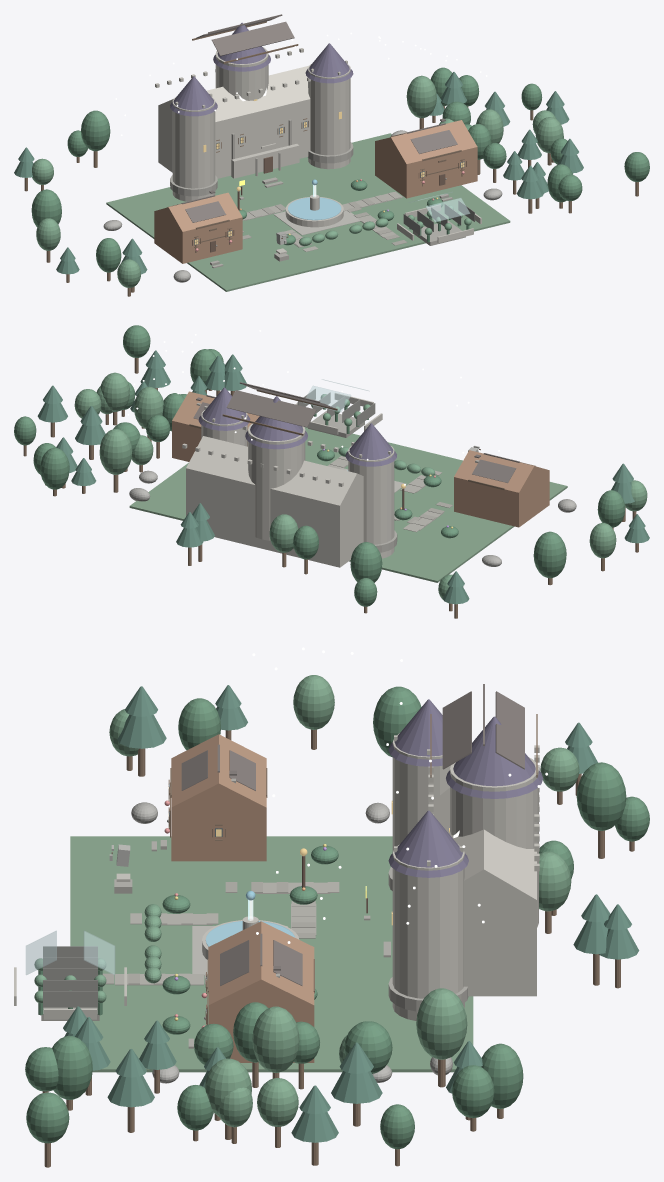
Rendered from raven-castle.glb.
3 views of the same model, one above another, from view 1: azimuth 30°, elevation 25°; view 2: azimuth 150°, elevation 25°; view 3: azimuth 270°, elevation 25° (orthographic). The views are drawn at different scales.
Visible parts, largest first — view 1: 大地草地, 古堡_主堡, 森鸦旅店_墙体, 星尘商店_墙体, 古堡_侧塔0, 古堡_侧塔1, 古堡_中央主塔, 古堡_主堡屋顶_前坡, 古堡_前城墙, 古堡_侧塔尖顶1, 古堡_侧塔尖顶0, 树冠.015 (+26 smaller); view 2: 古堡_主堡, 大地草地, 星尘商店_墙体, 古堡_中央主塔, 古堡_侧塔0, 森鸦旅店_墙体, 古堡_主堡屋顶_后坡, 古堡_侧塔尖顶0, 古堡_主塔尖顶, 树冠.023, 树冠.015, 古堡_侧塔尖顶1 (+24 smaller); view 3: 大地草地, 古堡_主堡, 星尘商店_墙体, 古堡_侧塔1, 森鸦旅店_墙体, 古堡_中央主塔, 古堡_主塔尖顶, 古堡_侧塔0, 古堡_侧塔尖顶1, 树冠.015, 树冠.021, 树冠.012 (+37 smaller).
Part boxes in pixels (box(x1,y1,x2,y2)): 大地草地: box(106, 133, 510, 291); 古堡_主堡: box(158, 65, 310, 178); 森鸦旅店_墙体: box(375, 120, 477, 198); 星尘商店_墙体: box(154, 192, 242, 263); 古堡_侧塔0: box(172, 97, 215, 201); 古堡_侧塔1: box(308, 64, 350, 169); 古堡_中央主塔: box(215, 47, 268, 100); 古堡_主堡屋顶_前坡: box(211, 21, 294, 56); 古堡_前城墙: box(231, 144, 299, 178); 古堡_侧塔尖顶1: box(305, 43, 353, 83); 古堡_侧塔尖顶0: box(170, 76, 217, 116); 树冠.015: box(406, 75, 436, 118); 古堡_主堡: box(186, 436, 363, 567); 大地草地: box(129, 427, 567, 582); 星尘商店_墙体: box(454, 450, 549, 527); 古堡_中央主塔: box(248, 423, 305, 540); 古堡_侧塔0: box(348, 445, 394, 558); 森鸦旅店_墙体: box(172, 391, 259, 461); 古堡_主堡屋顶_后坡: box(226, 390, 316, 427); 古堡_侧塔尖顶0: box(345, 423, 396, 466); 古堡_主塔尖顶: box(245, 396, 307, 449); 树冠.023: box(533, 531, 566, 578); 树冠.015: box(99, 429, 132, 474); 古堡_侧塔尖顶1: box(198, 387, 250, 430); 大地草地: box(70, 836, 473, 1072); 古堡_主堡: box(431, 788, 536, 996); 星尘商店_墙体: box(171, 734, 266, 861); 古堡_侧塔1: box(392, 844, 464, 1020); 森鸦旅店_墙体: box(208, 921, 314, 1062); 古堡_中央主塔: box(450, 757, 538, 927); 古堡_主塔尖顶: box(446, 716, 543, 798); 古堡_侧塔0: box(392, 733, 450, 852); 古堡_侧塔尖顶1: box(388, 810, 468, 877); 树冠.015: box(416, 988, 467, 1059); 树冠.021: box(576, 762, 626, 830); 树冠.012: box(252, 1006, 299, 1072).
Bounding box in the file's own units: 49.12 × 12.65 × 30.
